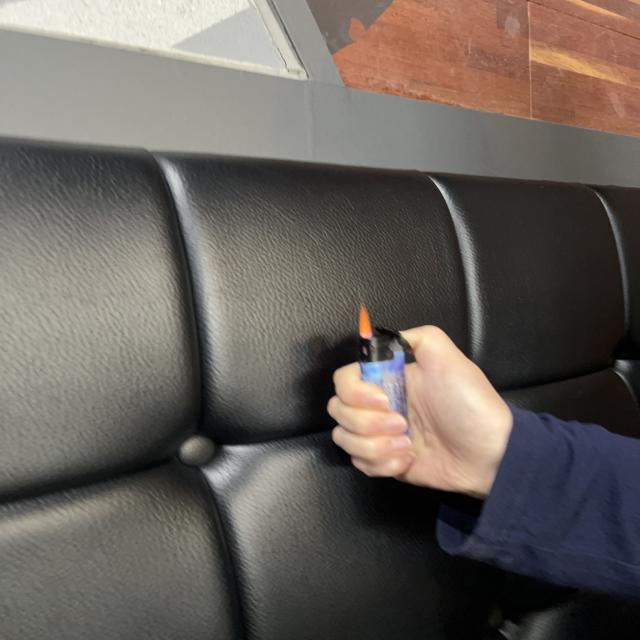fire: (356, 298, 376, 340)
